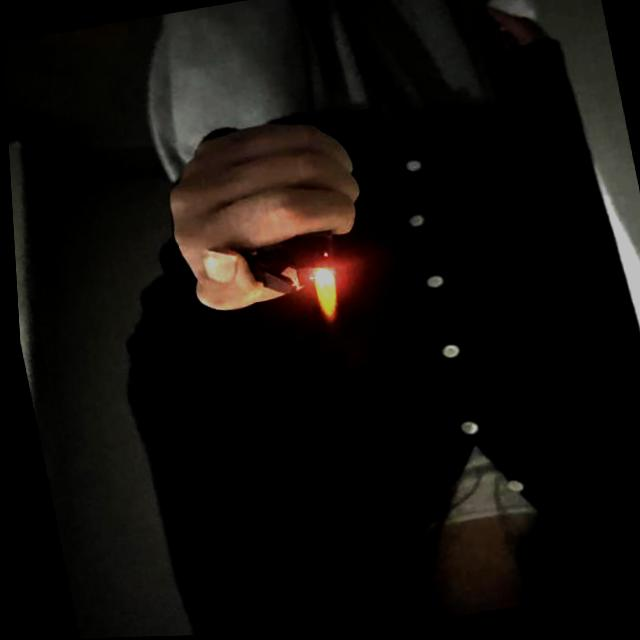helmet: (312, 273, 340, 321)
